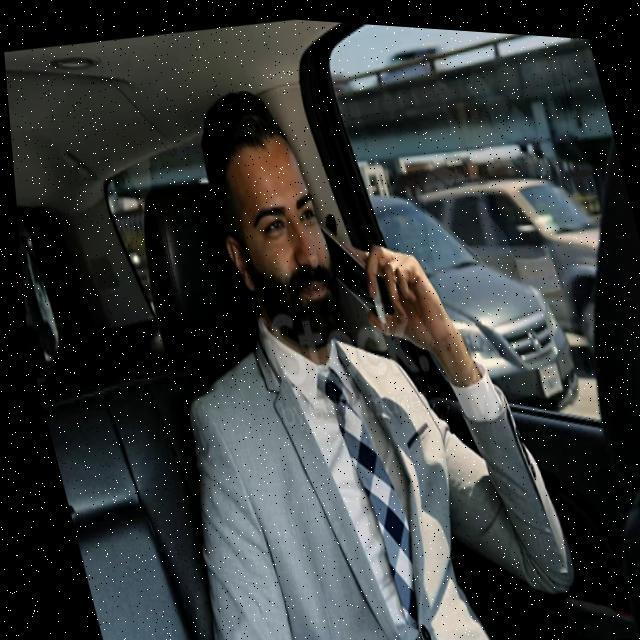PhoneCall: (312, 210, 387, 336)
